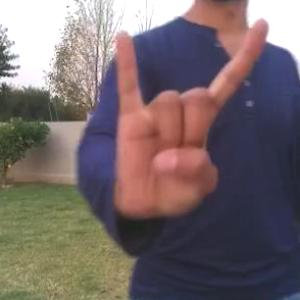takeoff-hand: (108, 8, 275, 236)
